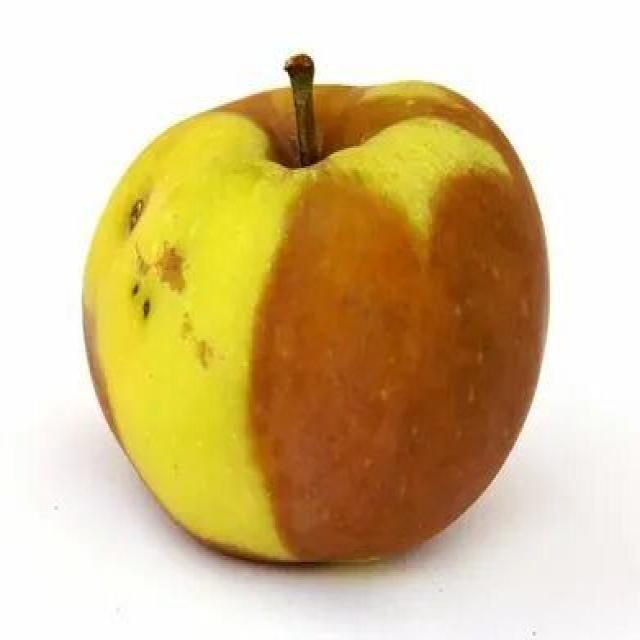Apple: (72, 72, 555, 573)
